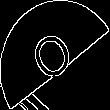O_SE: (28, 22, 82, 88)
